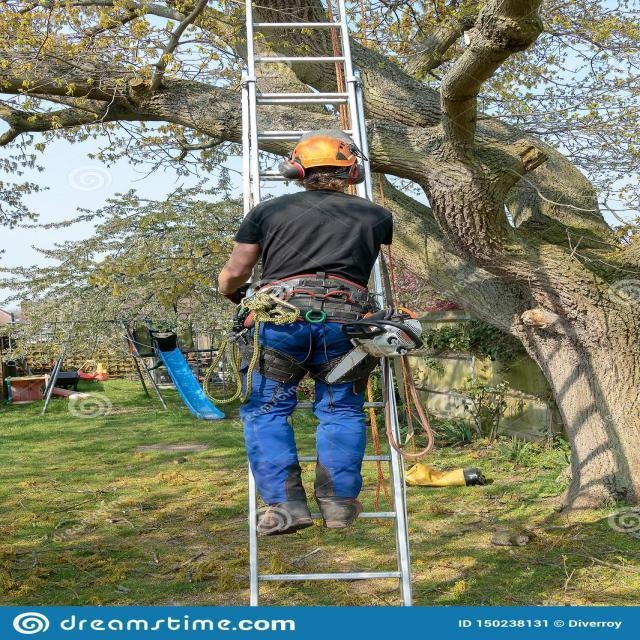Arnes_seguridad: (241, 269, 375, 386)
